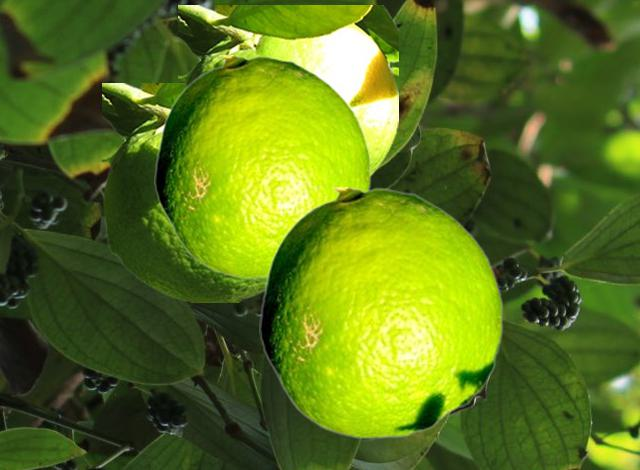dalandan: (259, 187, 502, 438), (154, 55, 370, 278), (178, 5, 397, 179), (102, 83, 265, 301)
